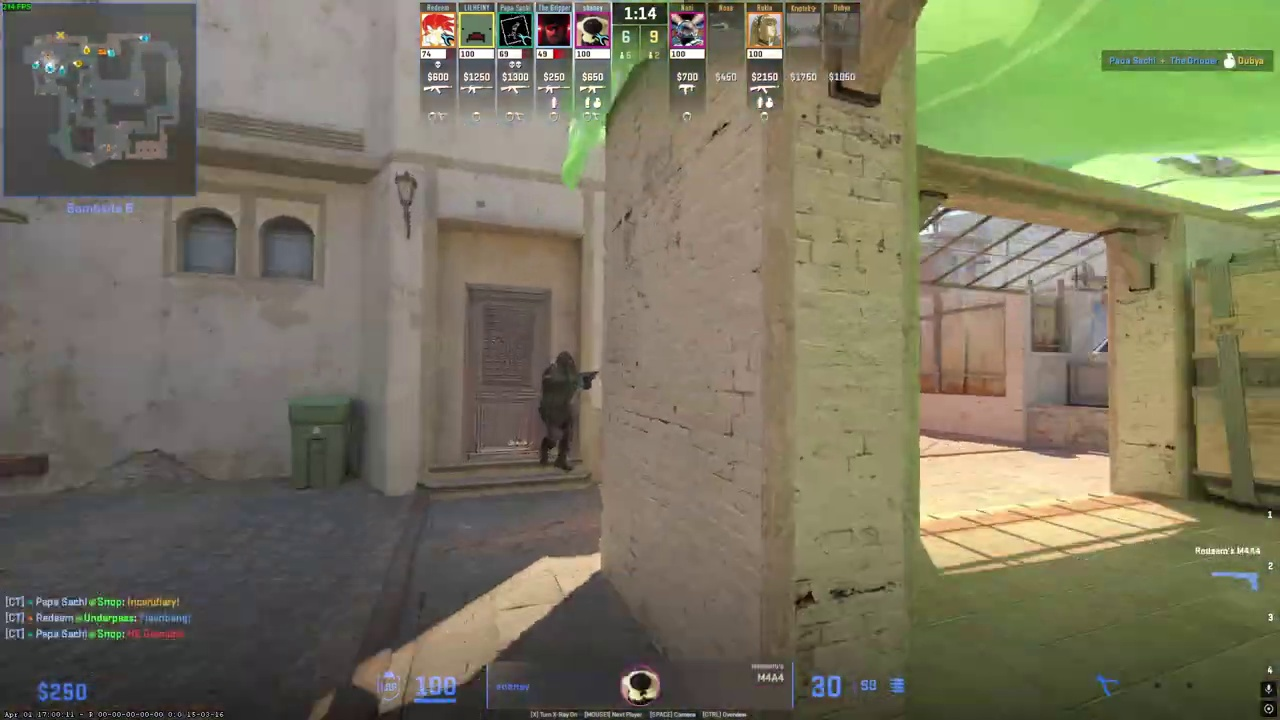CT: (538, 351, 587, 471)
